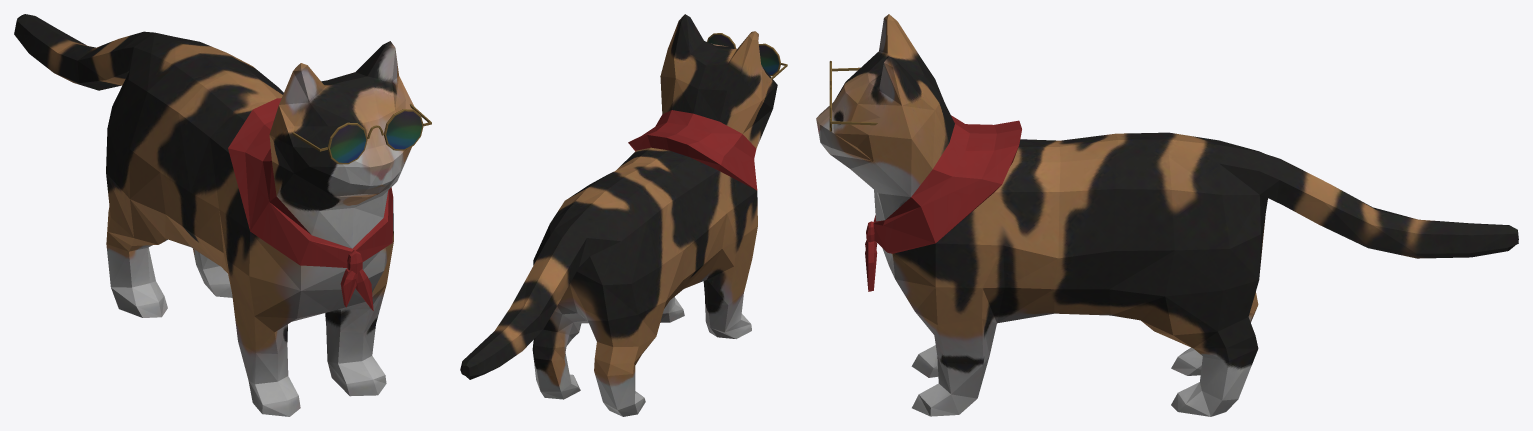
File: Cat.obj
The picture shows the model from 3 angles, left to right: view 1: azimuth 30°, elevation 25°; view 2: azimuth 150°, elevation 25°; view 3: azimuth 270°, elevation 25°; orthographic projection. The views are drawn at different scales.
Visible parts, largest first — view 1: Cat_0.002; view 2: Cat_0.002; view 3: Cat_0.002.
Boxes of the visible parts, x1=… form: Cat_0.002: x1=14, y1=14, x2=431, y2=416; Cat_0.002: x1=460, y1=14, x2=787, y2=416; Cat_0.002: x1=816, y1=14, x2=1518, y2=416.
Size of the model in its own units: 1.95 by 4.63 by 8.31.
3 materials, 3 textured.
